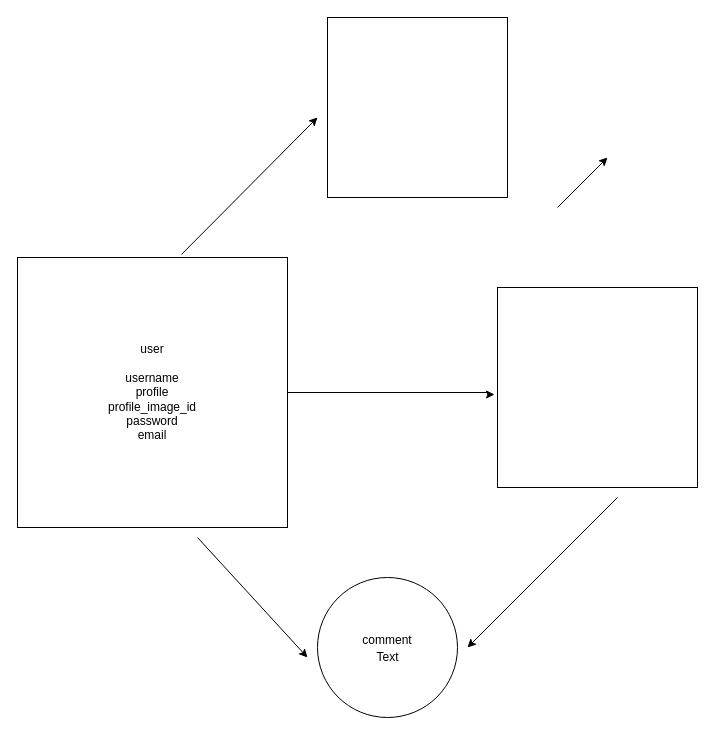
This 715x735 diagram has some shape labels left out. Each missing label, with the centre of its shape:
blog title body user_id: point 597,387
favarite user_id blog_id: point 417,107
